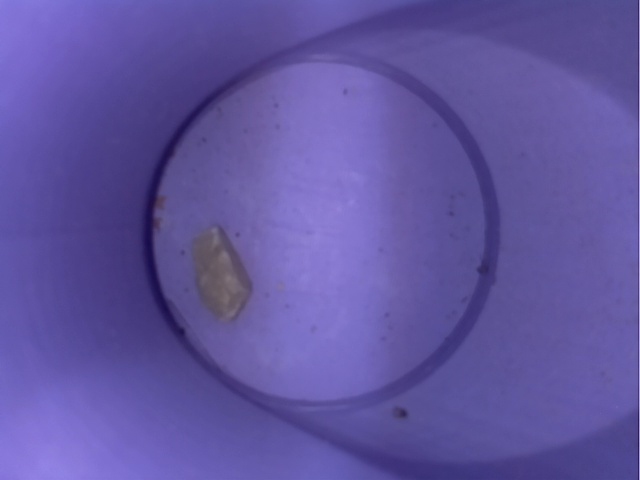caillou: (171, 218, 260, 329)
